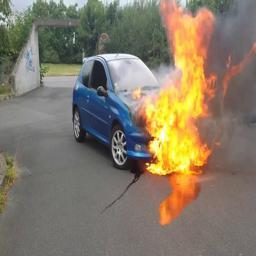fire: (132, 0, 256, 175)
